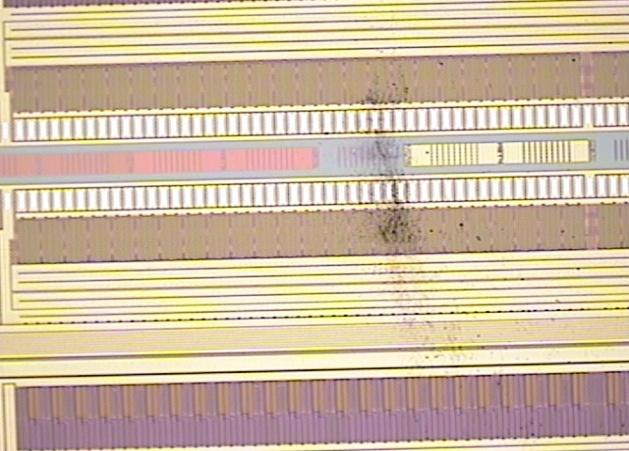PO CONTAMINATION: (355, 55, 586, 371)
